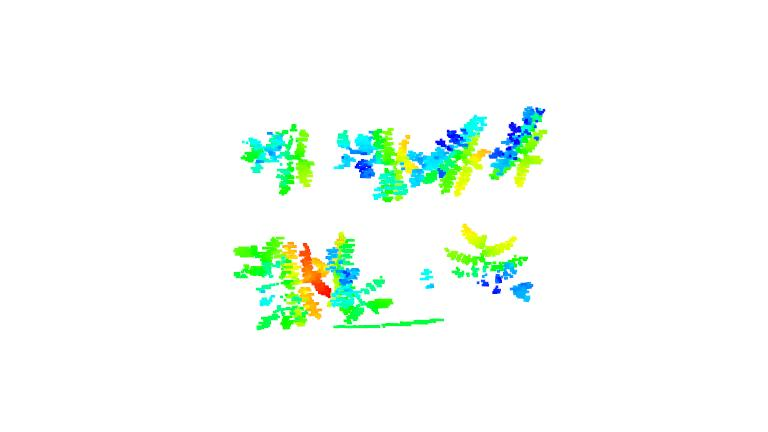chickpea: (227, 237, 333, 332), (444, 223, 536, 301), (332, 124, 416, 208), (412, 110, 489, 198), (324, 232, 393, 323), (237, 122, 316, 191), (487, 104, 549, 185)
